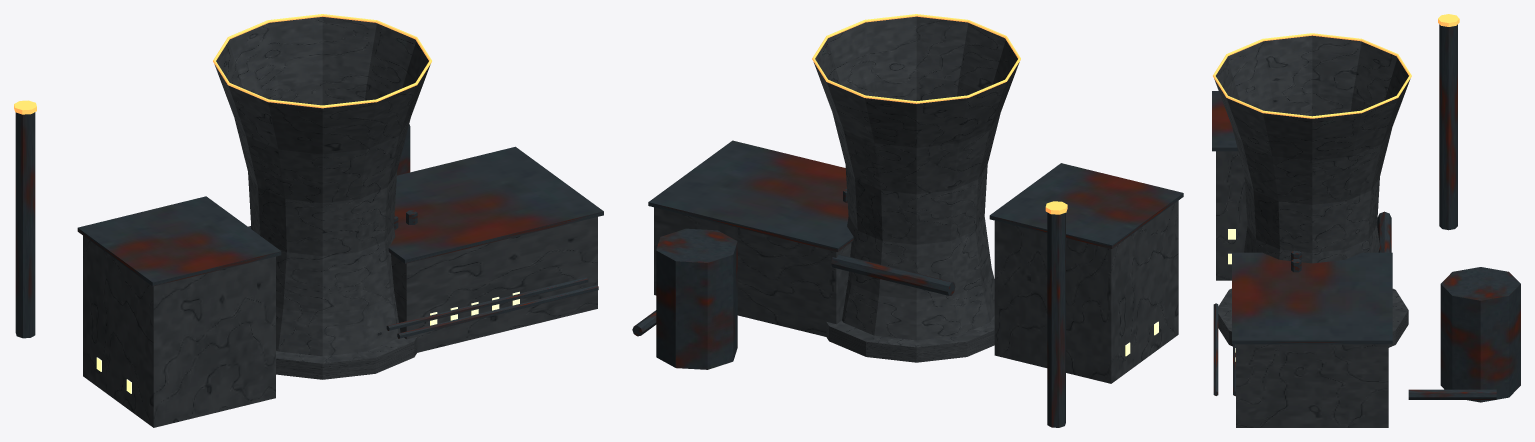
Rendered from geothermal-plant-lod2.meshopt.glb.
The picture shows the model from 3 angles, left to right: view 1: azimuth 30°, elevation 25°; view 2: azimuth 150°, elevation 25°; view 3: azimuth 270°, elevation 25°; orthographic projection. The views are drawn at different scales.
Parts seen in each view (by area): view 1: CinematicBatch_concrete, CinematicBatch_steel, CinematicBatch_amber; view 2: CinematicBatch_concrete, CinematicBatch_steel, CinematicBatch_amber; view 3: CinematicBatch_concrete, CinematicBatch_steel, CinematicBatch_amber.
Boxes of the visible parts, x1,y1,x2,y2 form: CinematicBatch_concrete: [83, 17, 597, 427]; CinematicBatch_steel: [15, 112, 603, 338]; CinematicBatch_amber: [14, 14, 431, 114]; CinematicBatch_concrete: [654, 16, 1178, 383]; CinematicBatch_steel: [632, 140, 1183, 427]; CinematicBatch_amber: [812, 14, 1067, 214]; CinematicBatch_concrete: [1214, 35, 1410, 427]; CinematicBatch_steel: [1212, 24, 1520, 402]; CinematicBatch_amber: [1213, 14, 1459, 118].
Bounding box in the file's own units: 61.35 × 34.37 × 38.5.
Materials: 4 (2 with a texture image).
